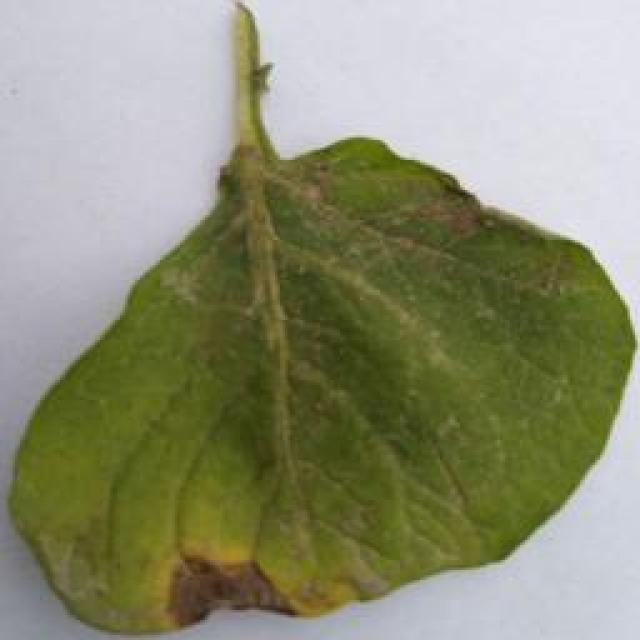Potato_Late_Blight: (8, 26, 620, 634)
